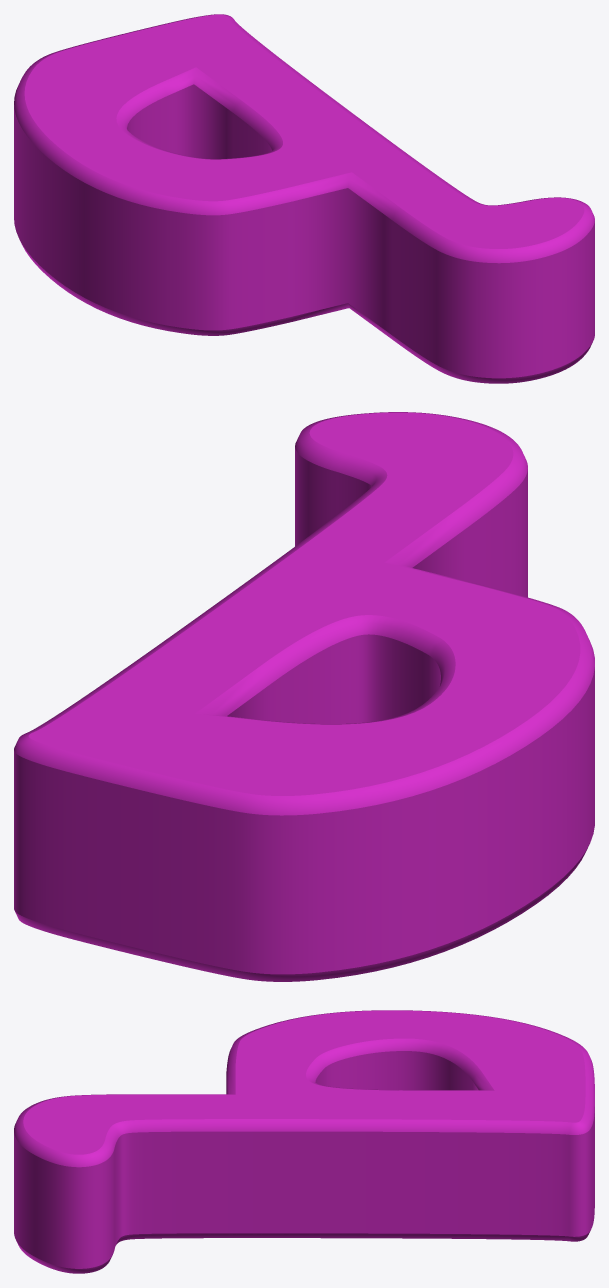
Rendered from Bubble_Letter_b.fbx.
The picture shows the model from 3 angles, top to bottom: view 1: azimuth 30°, elevation 25°; view 2: azimuth 150°, elevation 25°; view 3: azimuth 270°, elevation 25°; orthographic projection. The views are drawn at different scales.
Parts seen in each view (by area): view 1: BubbleLetter_b; view 2: BubbleLetter_b; view 3: BubbleLetter_b.
Part boxes in pixels (bbox=[...]): BubbleLetter_b: bbox=[14, 14, 594, 383]; BubbleLetter_b: bbox=[14, 412, 594, 981]; BubbleLetter_b: bbox=[14, 1010, 594, 1273].
Size of the model in its own units: 0.3849 by 0.14 by 0.6211.
